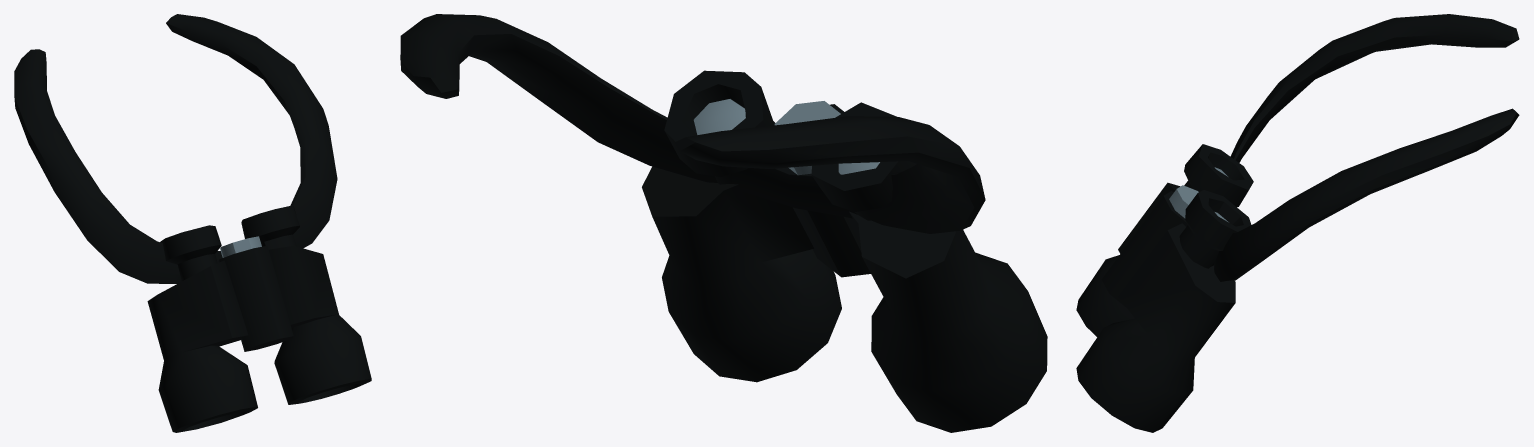
File: binoculars_neck.obj
3 renders of one model, left to right at view 1: azimuth 30°, elevation 25°; view 2: azimuth 150°, elevation 25°; view 3: azimuth 270°, elevation 25°, orthographic. The views are drawn at different scales.
Parts seen in each view (by area): view 1: binoculars_neck_Cylinder.084; view 2: binoculars_neck_Cylinder.084; view 3: binoculars_neck_Cylinder.084.
Part boxes in pixels (x1,y1,x2,y2): binoculars_neck_Cylinder.084: (14, 14, 371, 432); binoculars_neck_Cylinder.084: (400, 14, 1047, 432); binoculars_neck_Cylinder.084: (1076, 14, 1519, 432).
Size of the model in its own units: 0.3902 by 0.3711 by 0.4643.
